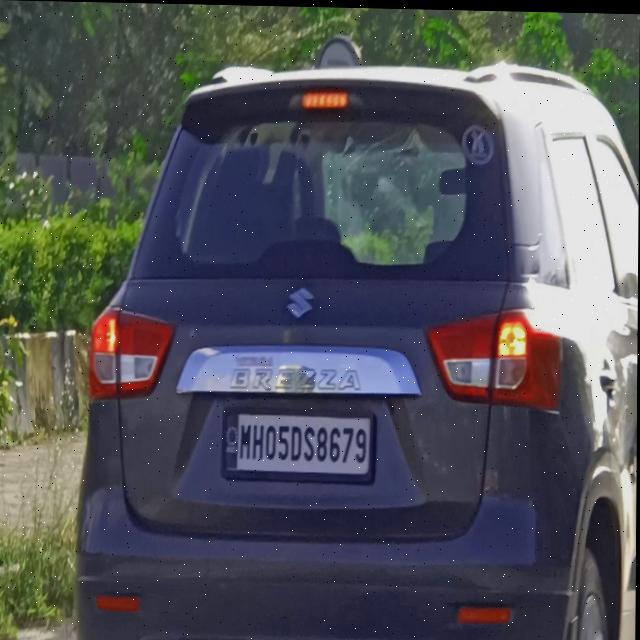plate: (221, 404, 376, 482)
